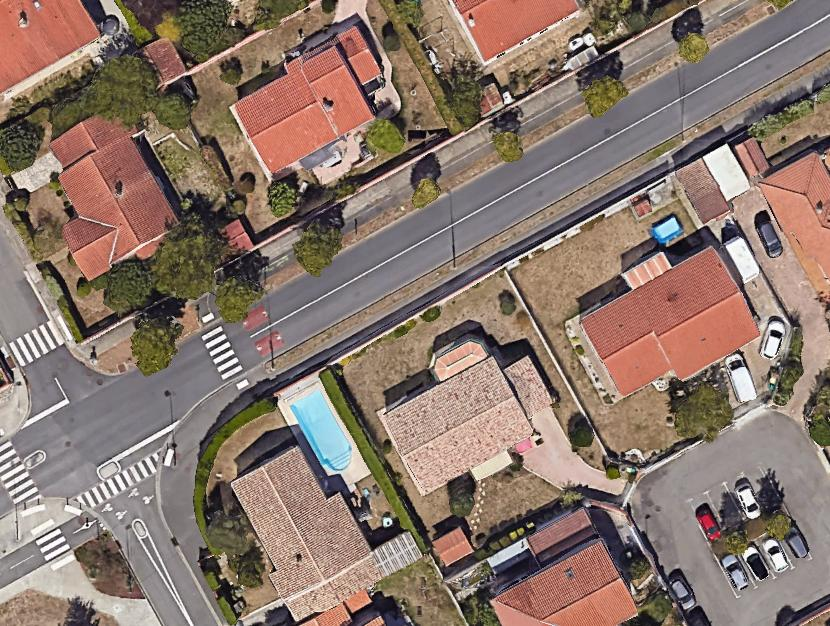maison: (366, 314, 563, 495), (576, 241, 765, 412), (220, 437, 386, 626), (22, 104, 186, 285), (225, 25, 399, 176), (469, 505, 642, 626), (756, 149, 830, 300), (0, 0, 97, 89), (451, 0, 579, 64), (296, 590, 385, 625)
